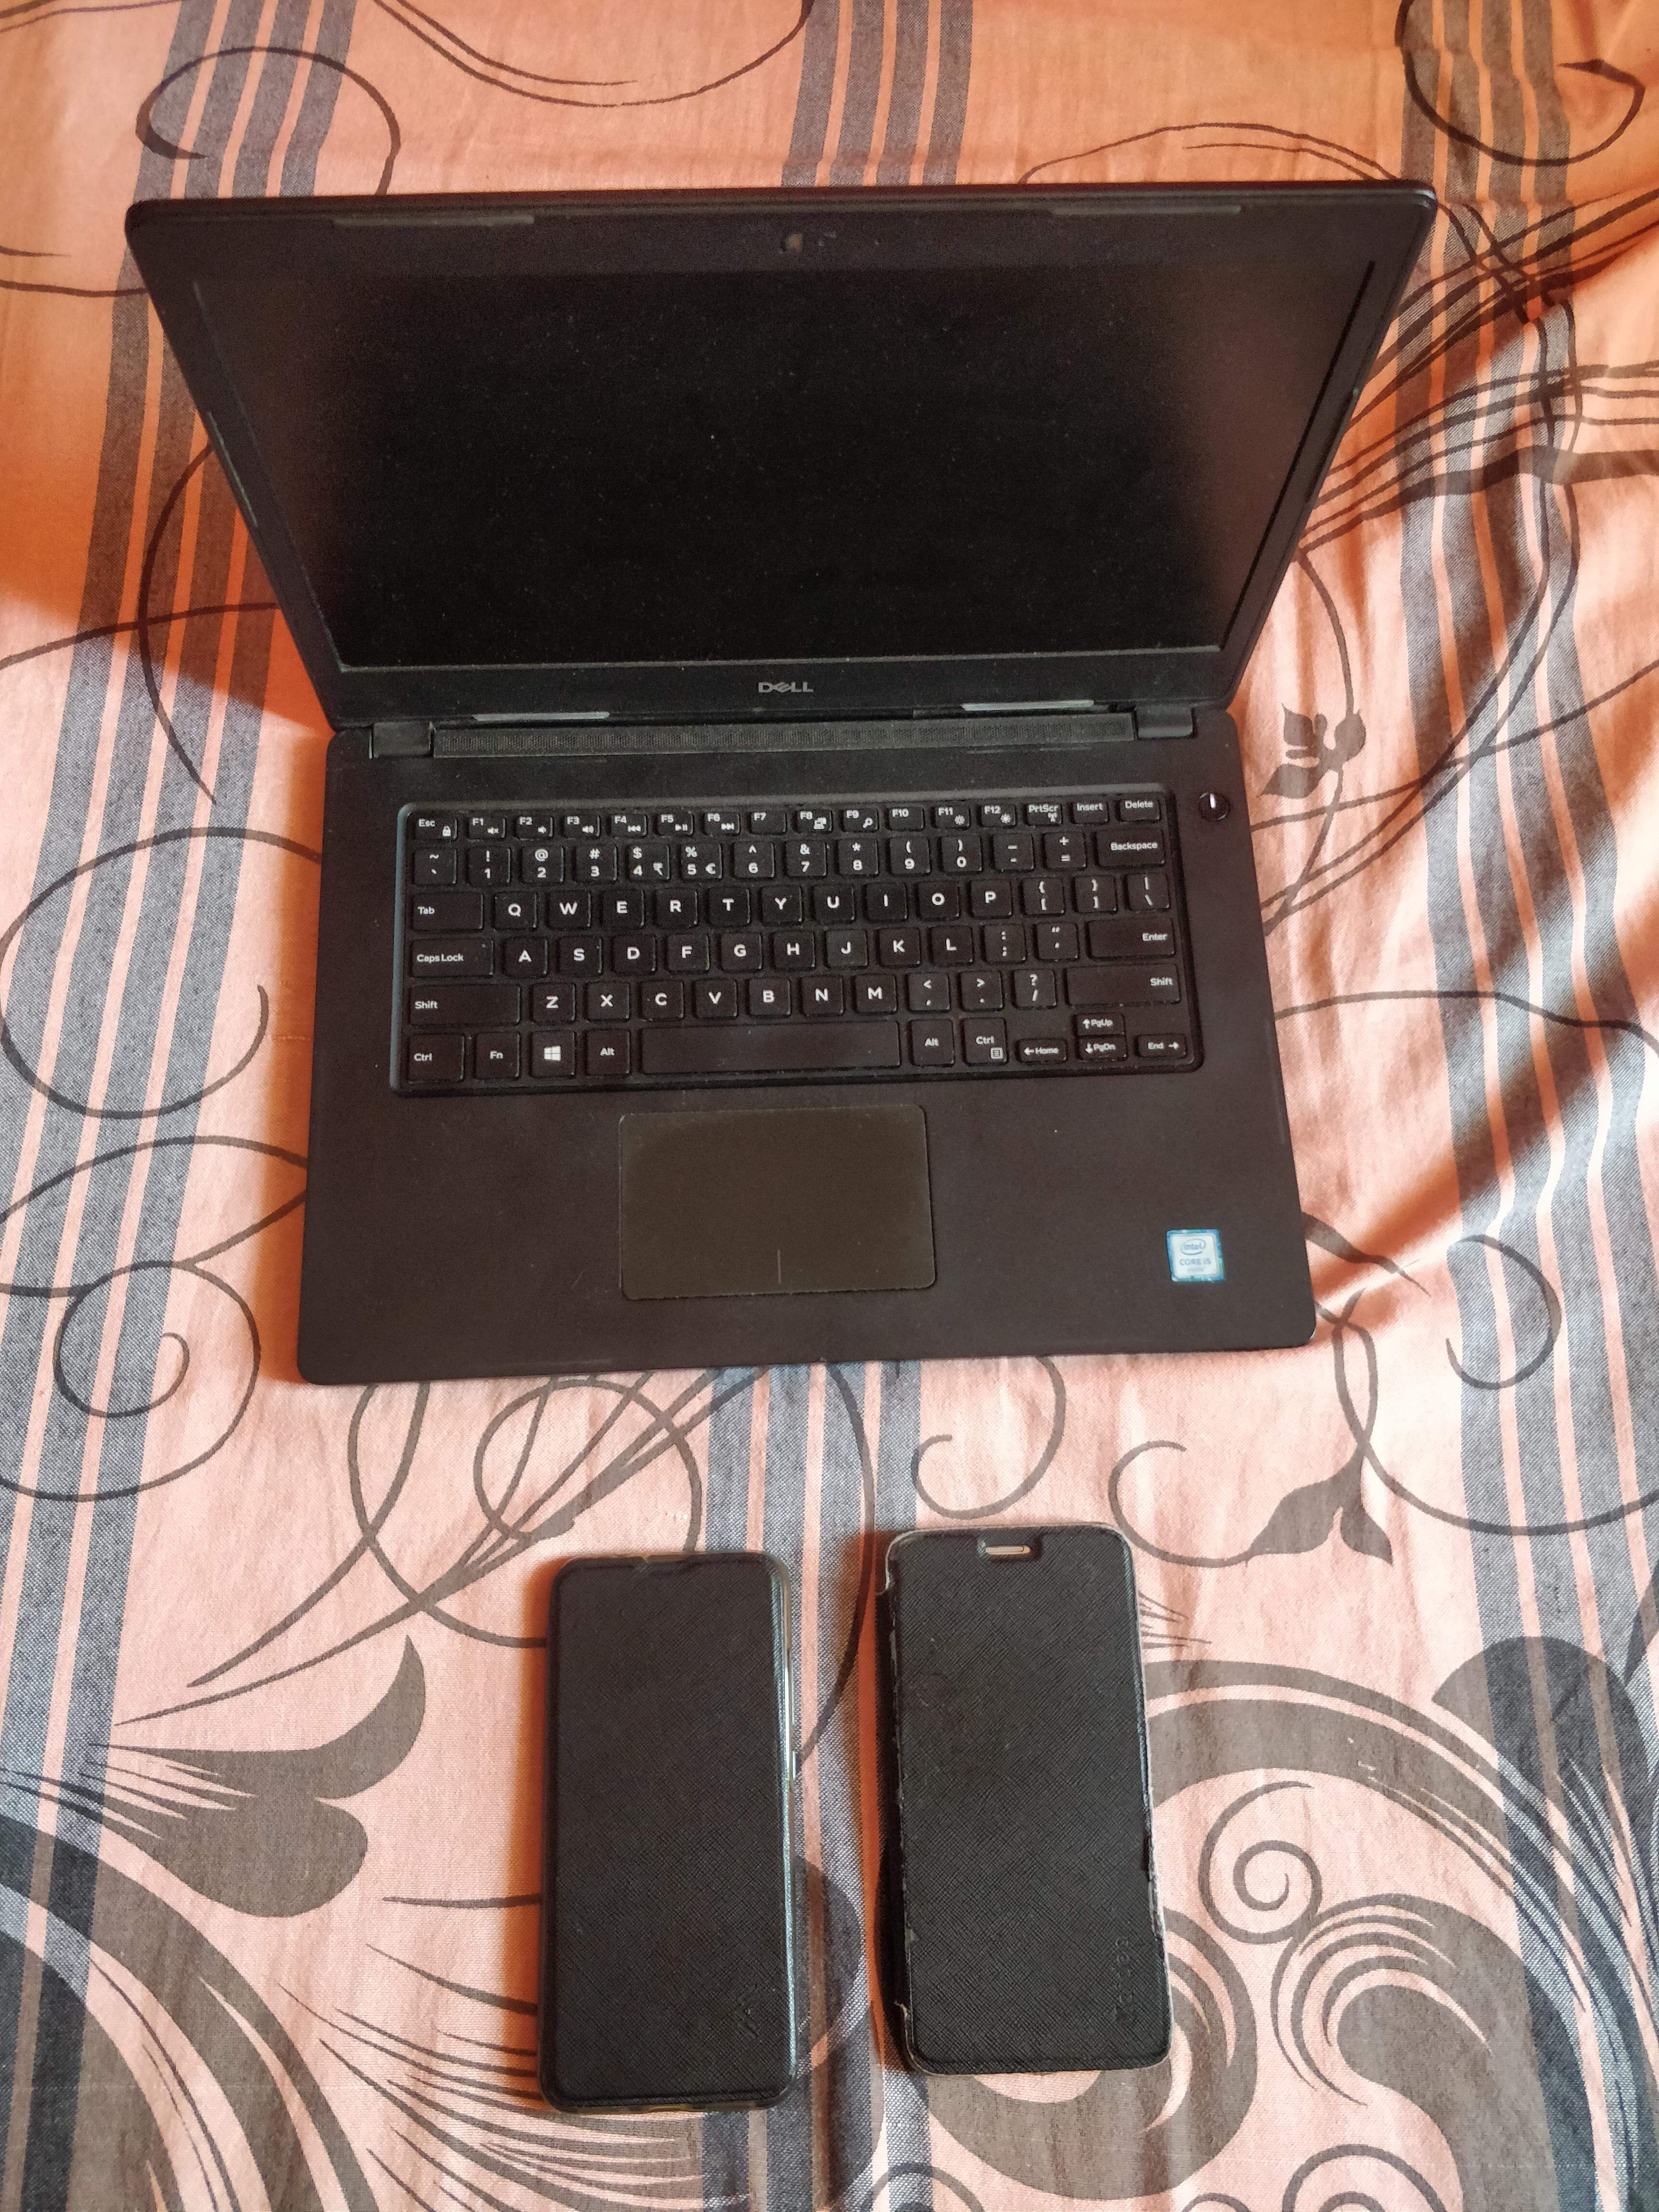Phone: (824, 1493, 1197, 2127), (474, 1500, 817, 2161)
laptop: (98, 101, 1558, 1439)
